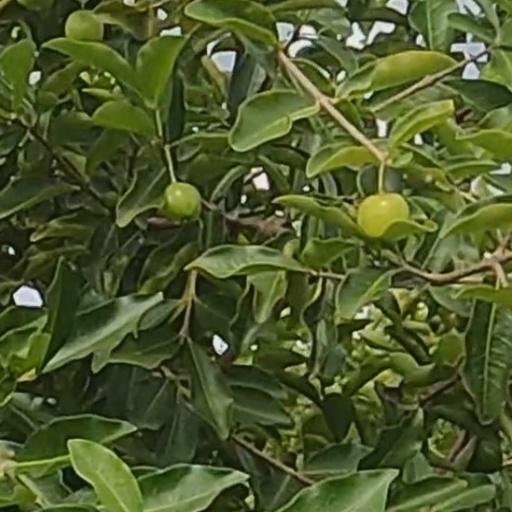acerola: (358, 194, 405, 233), (167, 184, 200, 223)
